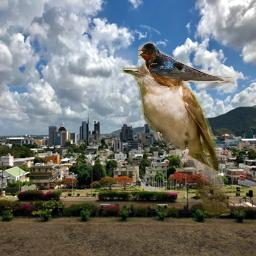Cuckoo: (120, 59, 231, 218)
Swallow: (138, 42, 235, 86)
